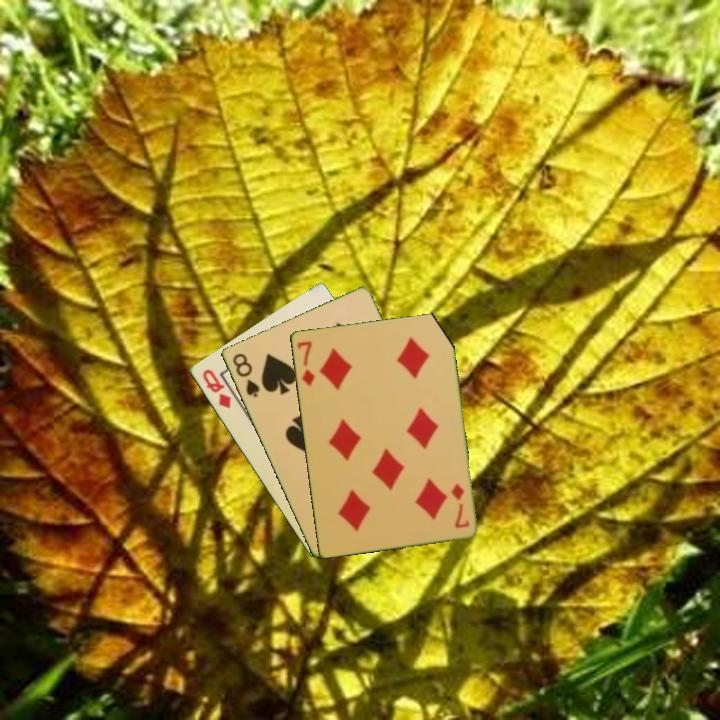7d: (447, 480, 472, 531), (293, 337, 317, 389)
8s: (229, 349, 262, 400)
Qd: (198, 365, 234, 412)
